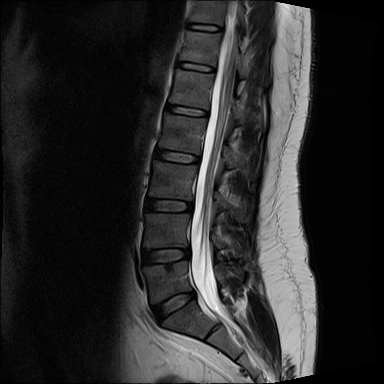Lumbar Disc Bulge (LDB): (146, 284, 201, 331)
Normal IVD: (137, 239, 195, 270), (142, 192, 197, 216), (150, 145, 202, 168), (165, 97, 211, 122), (171, 58, 218, 78), (181, 17, 227, 35)
Spinal Stenosis (SS): (188, 284, 201, 304)
